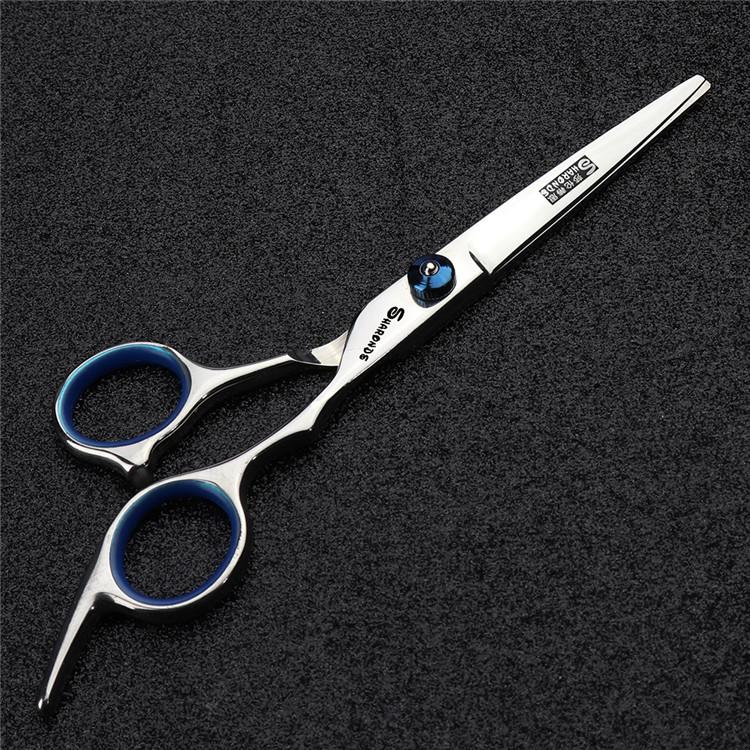scissor: (53, 50, 750, 616)
